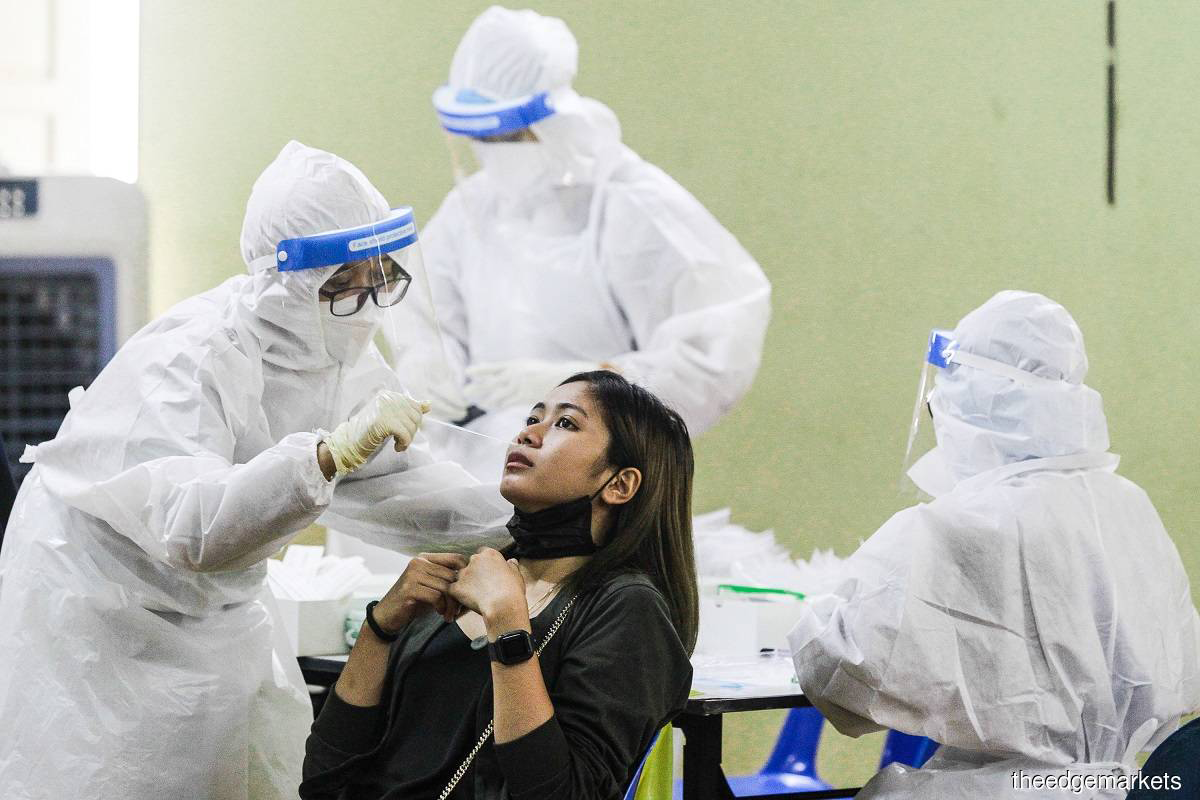Coverall: (1, 145, 425, 800), (800, 281, 1184, 770), (419, 8, 765, 371)
Gloves: (325, 389, 427, 481)
with_mask: (309, 271, 397, 367)
without_mask: (498, 380, 635, 528)
